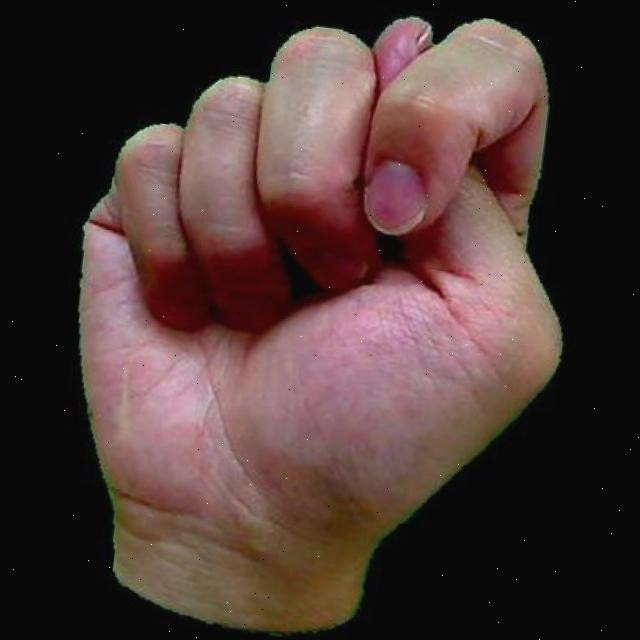t: (11, 0, 610, 640)
